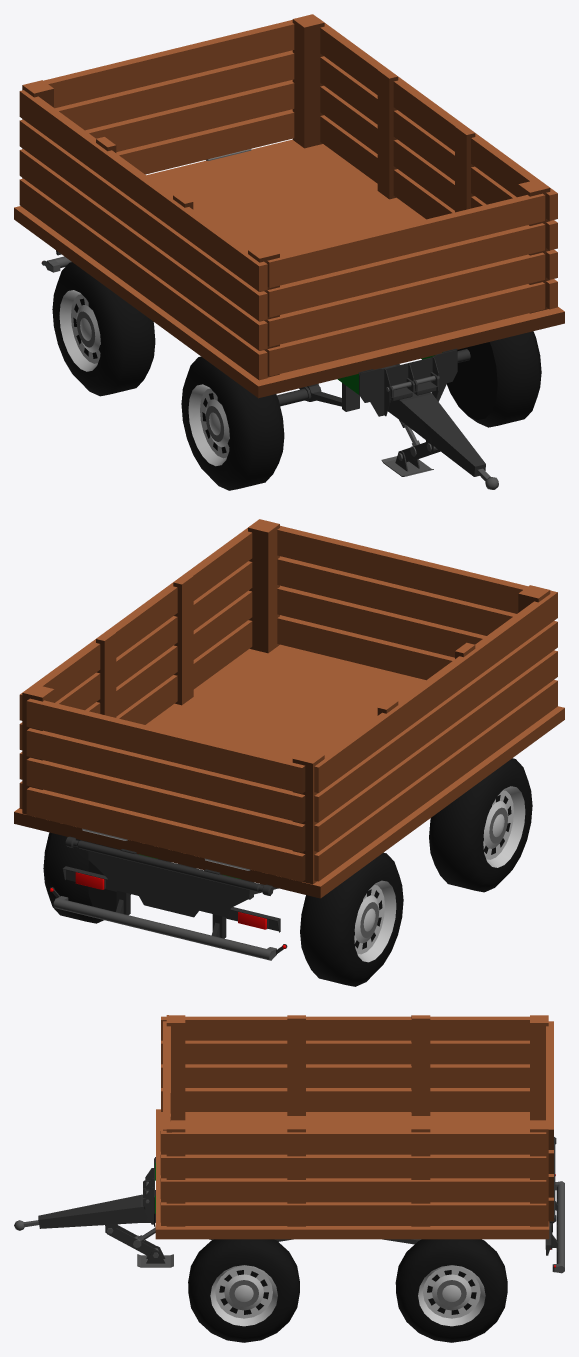
File: Tractor Trailer.fbx
The picture shows the model from 3 angles, top to bottom: view 1: azimuth 30°, elevation 25°; view 2: azimuth 150°, elevation 25°; view 3: azimuth 270°, elevation 25°; orthographic projection. The views are drawn at different scales.
Parts seen in each view (by area): view 1: Trolley, Trailer, pasted__unityexport_ColorVar1_Material_0.011, pasted__unityexport_ColorVar1_Material_0.004, pasted__unityexport_ColorVar1_Material_0.003; view 2: Trolley, Trailer, pasted__unityexport_ColorVar1_Material_0.004, pasted__unityexport_ColorVar1_Material_0.011, pasted__unityexport_ColorVar1_Material_0.012; view 3: Trolley, pasted__unityexport_ColorVar1_Material_0.012, pasted__unityexport_ColorVar1_Material_0.003, Trailer.
Boxes of the visible parts, x1=… form: Trolley: x1=14, y1=14, x2=564, y2=398; Trailer: x1=41, y1=250, x2=498, y2=489; pasted__unityexport_ColorVar1_Material_0.011: x1=181, y1=356, x2=284, y2=490; pasted__unityexport_ColorVar1_Material_0.004: x1=52, y1=262, x2=155, y2=396; pasted__unityexport_ColorVar1_Material_0.003: x1=447, y1=331, x2=541, y2=427; Trolley: x1=14, y1=519, x2=564, y2=898; Trailer: x1=49, y1=836, x2=287, y2=960; pasted__unityexport_ColorVar1_Material_0.004: x1=300, y1=852, x2=403, y2=986; pasted__unityexport_ColorVar1_Material_0.011: x1=429, y1=758, x2=532, y2=892; pasted__unityexport_ColorVar1_Material_0.012: x1=43, y1=832, x2=130, y2=923; Trolley: x1=155, y1=1015, x2=553, y2=1239; pasted__unityexport_ColorVar1_Material_0.012: x1=395, y1=1239, x2=507, y2=1342; pasted__unityexport_ColorVar1_Material_0.003: x1=188, y1=1239, x2=299, y2=1342; Trailer: x1=14, y1=1137, x2=564, y2=1273.
Size of the model in its own units: 212 by 173 by 405.
